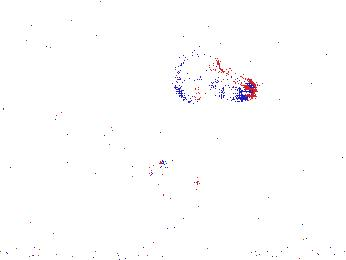flame jellyfish: (169, 48, 257, 104), (222, 169, 291, 220), (146, 157, 200, 210)
